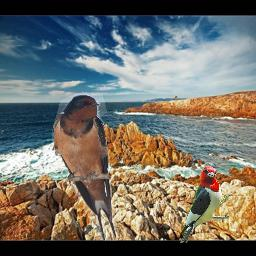Swallow: (52, 94, 117, 241)
Woodpecker: (178, 165, 229, 243)
